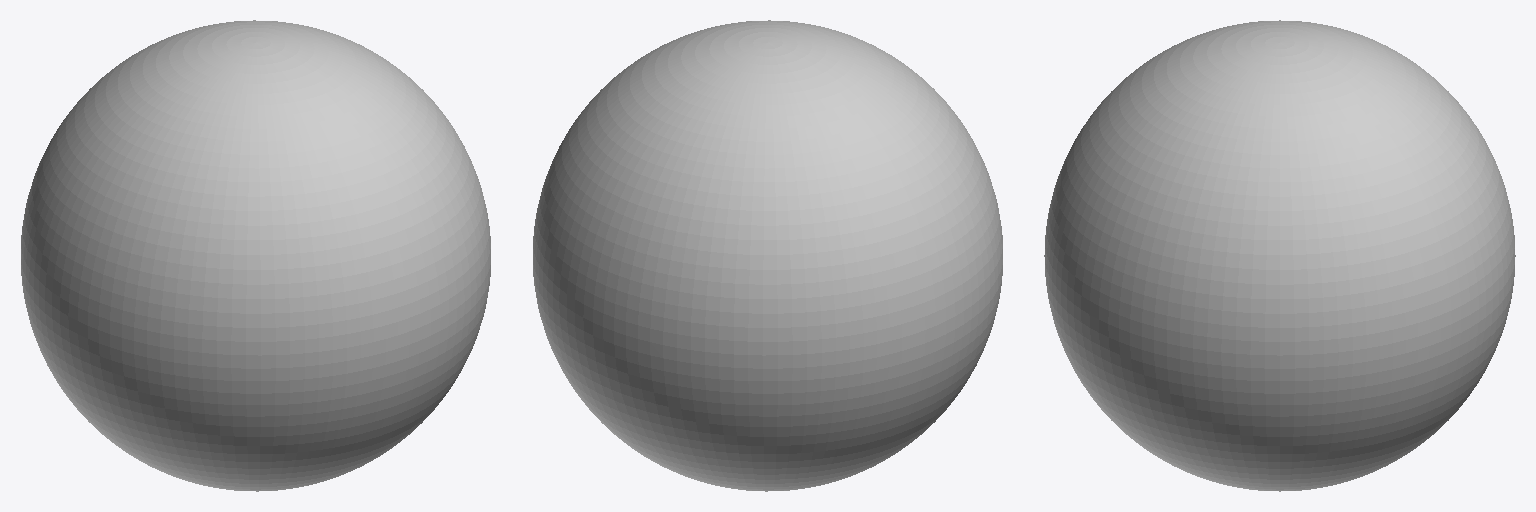
The model's file is background_sphere.obj.
3 views of the same model, side by side, from view 1: azimuth 30°, elevation 25°; view 2: azimuth 150°, elevation 25°; view 3: azimuth 270°, elevation 25° (orthographic).
Parts seen in each view (by area): view 1: Sphere_Sphere.001; view 2: Sphere_Sphere.001; view 3: Sphere_Sphere.001.
Part boxes in pixels (left/top/right/bottom): Sphere_Sphere.001: left=21, top=20, right=490, bottom=491; Sphere_Sphere.001: left=533, top=20, right=1002, bottom=491; Sphere_Sphere.001: left=1044, top=20, right=1515, bottom=491.
Size of the model in its own units: 20.95 by 20.95 by 20.95.